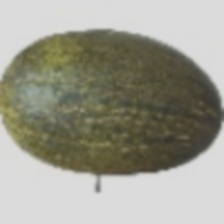honeydew: (0, 48, 185, 187)
